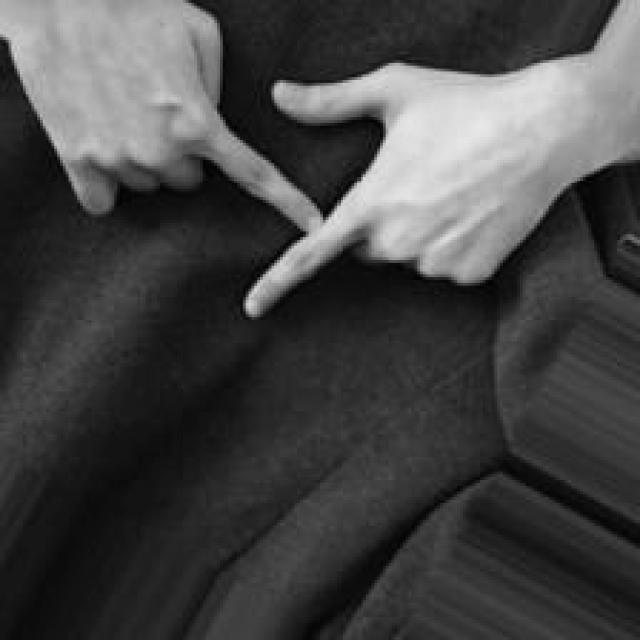F: (0, 0, 558, 326)
